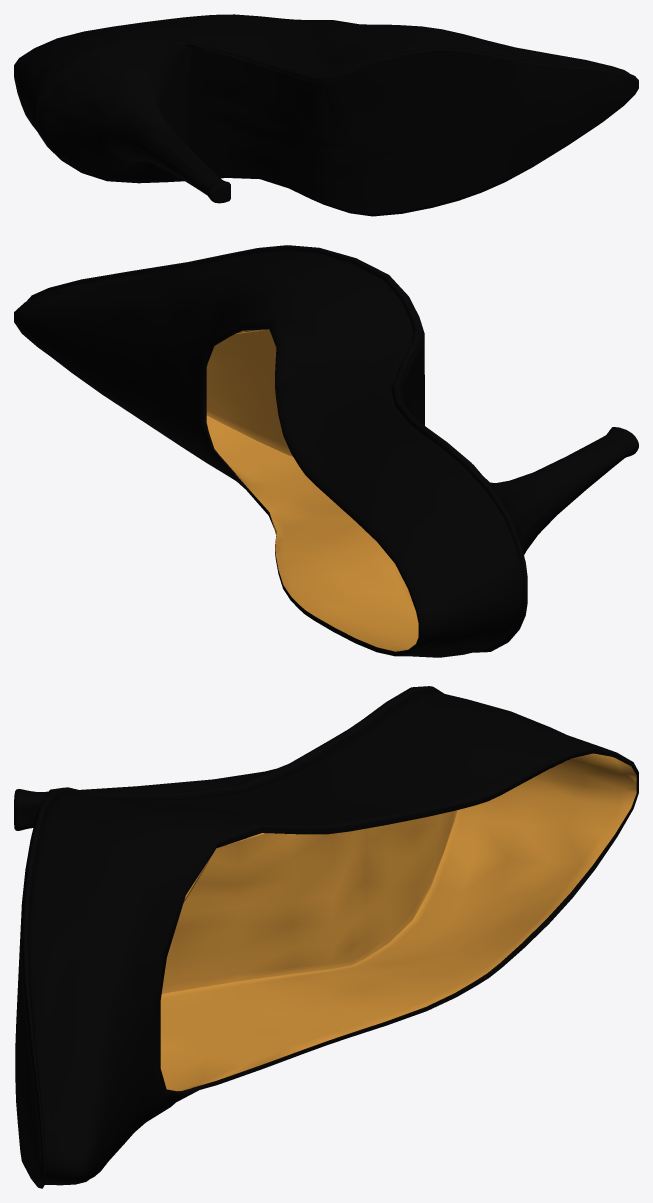
The model's file is Heels.obj.
The picture shows the model from 3 angles, top to bottom: view 1: azimuth 30°, elevation 25°; view 2: azimuth 150°, elevation 25°; view 3: azimuth 270°, elevation 25°; orthographic projection. The views are drawn at different scales.
Parts seen in each view (by area): view 1: Heels.002; view 2: Heels.002; view 3: Heels.002.
Part boxes in pixels (x1,y1,x2,y2): Heels.002: (14, 14, 638, 216); Heels.002: (14, 245, 638, 657); Heels.002: (14, 686, 638, 1188).
Bounding box in the file's own units: 305 × 99.81 × 195.
